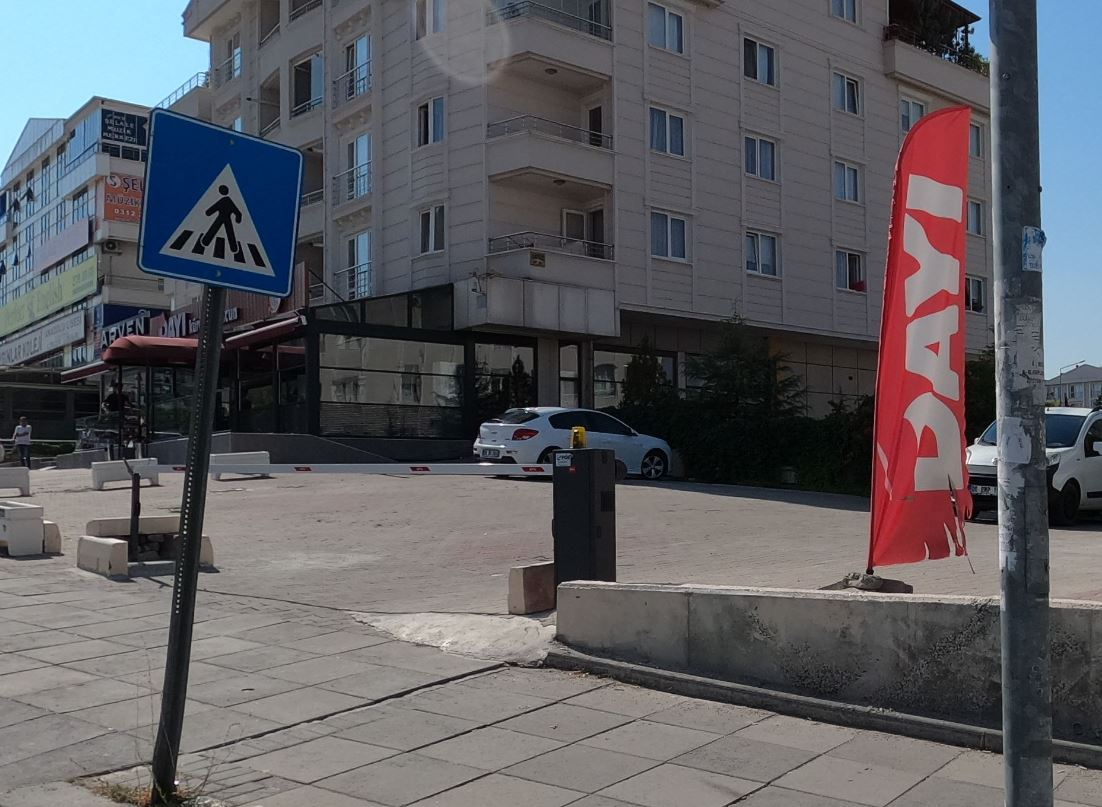Yaya Gecidi: (156, 124, 297, 296)
